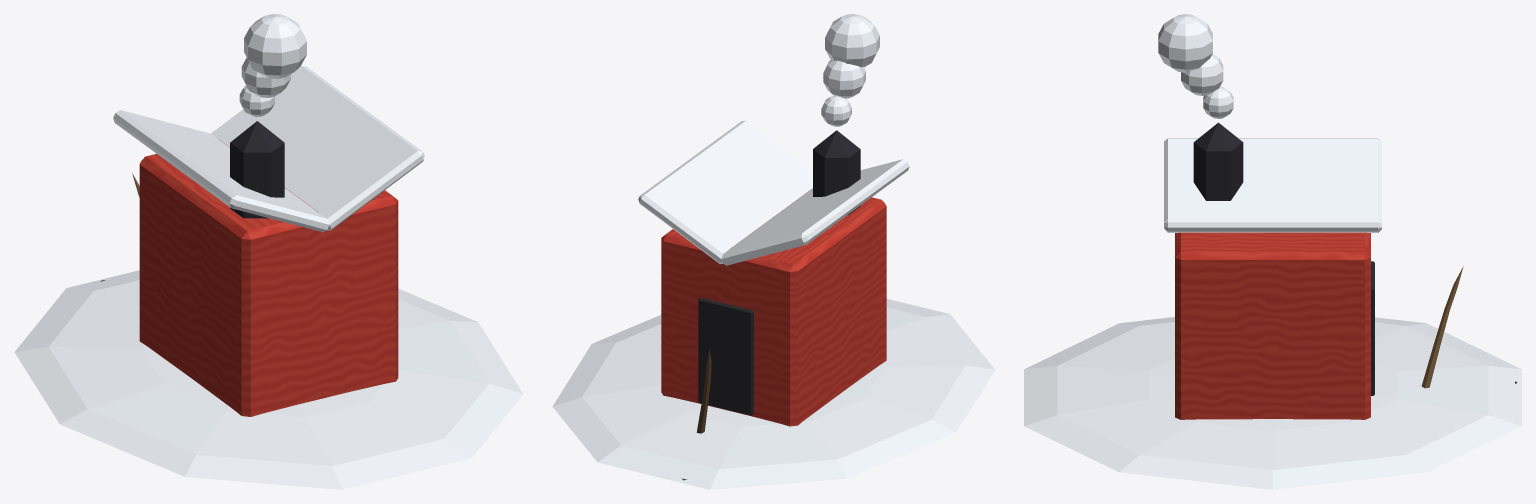
The model's file is IceFishingHut.glb.
3 views of the same model, side by side, from view 1: azimuth 30°, elevation 25°; view 2: azimuth 150°, elevation 25°; view 3: azimuth 270°, elevation 25° (orthographic). The views are drawn at different scales.
Visible parts, largest first — view 1: IceFishingHut; view 2: IceFishingHut; view 3: IceFishingHut.
Part boxes in pixels (x1,y1,x2,y2): IceFishingHut: (14, 14, 523, 489); IceFishingHut: (552, 14, 995, 489); IceFishingHut: (1024, 14, 1521, 489).
Size of the model in its own units: 4 by 3.82 by 4.57.
Materials: 1 (1 with a texture image).
